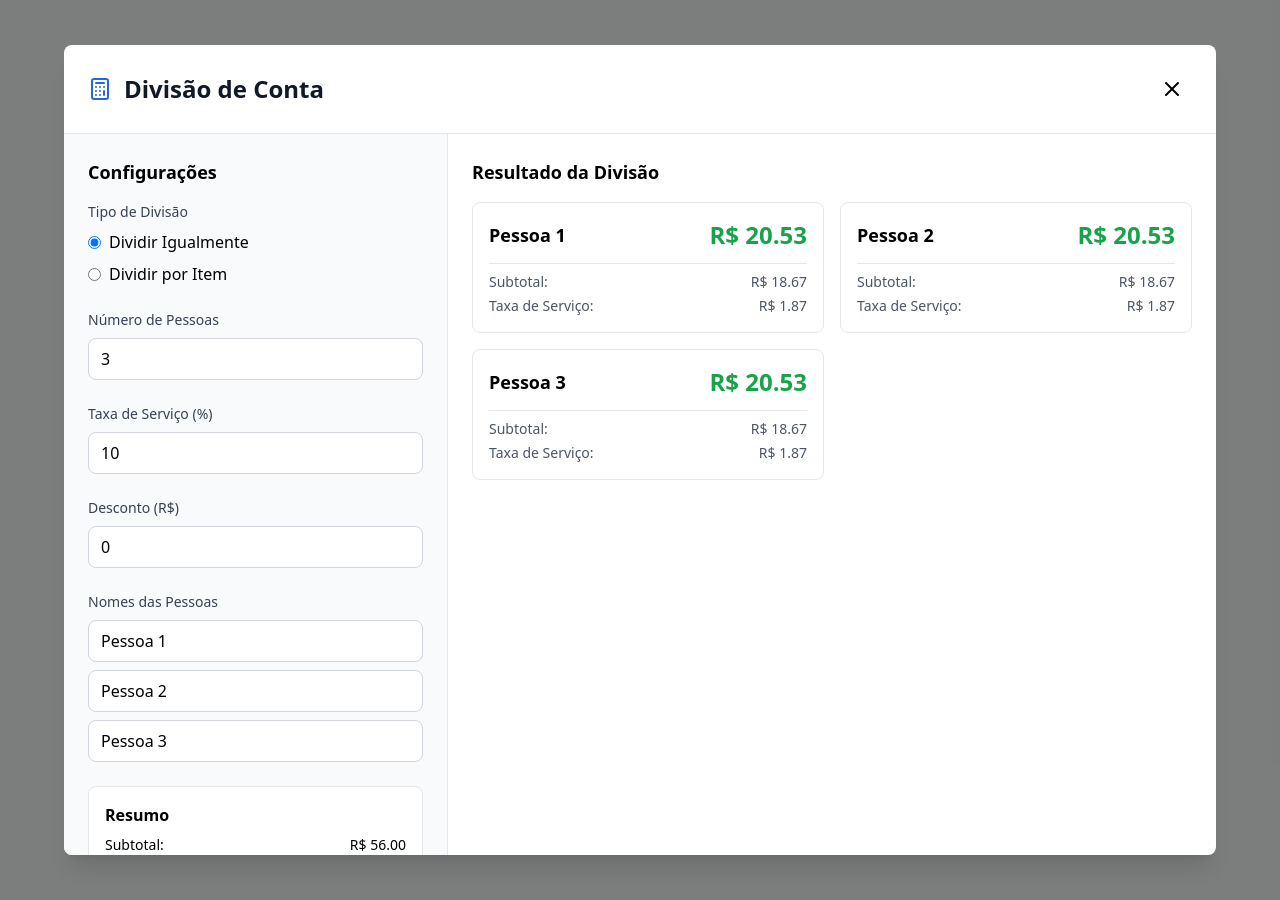
Test: DivisaoContaModal › deve permitir alterar o número de pessoas
# Alterar para 2 pessoas
Replace the text in the number field showing "3" below "Número de Pessoas" with "2" at [256, 359], box [88, 338, 423, 380]
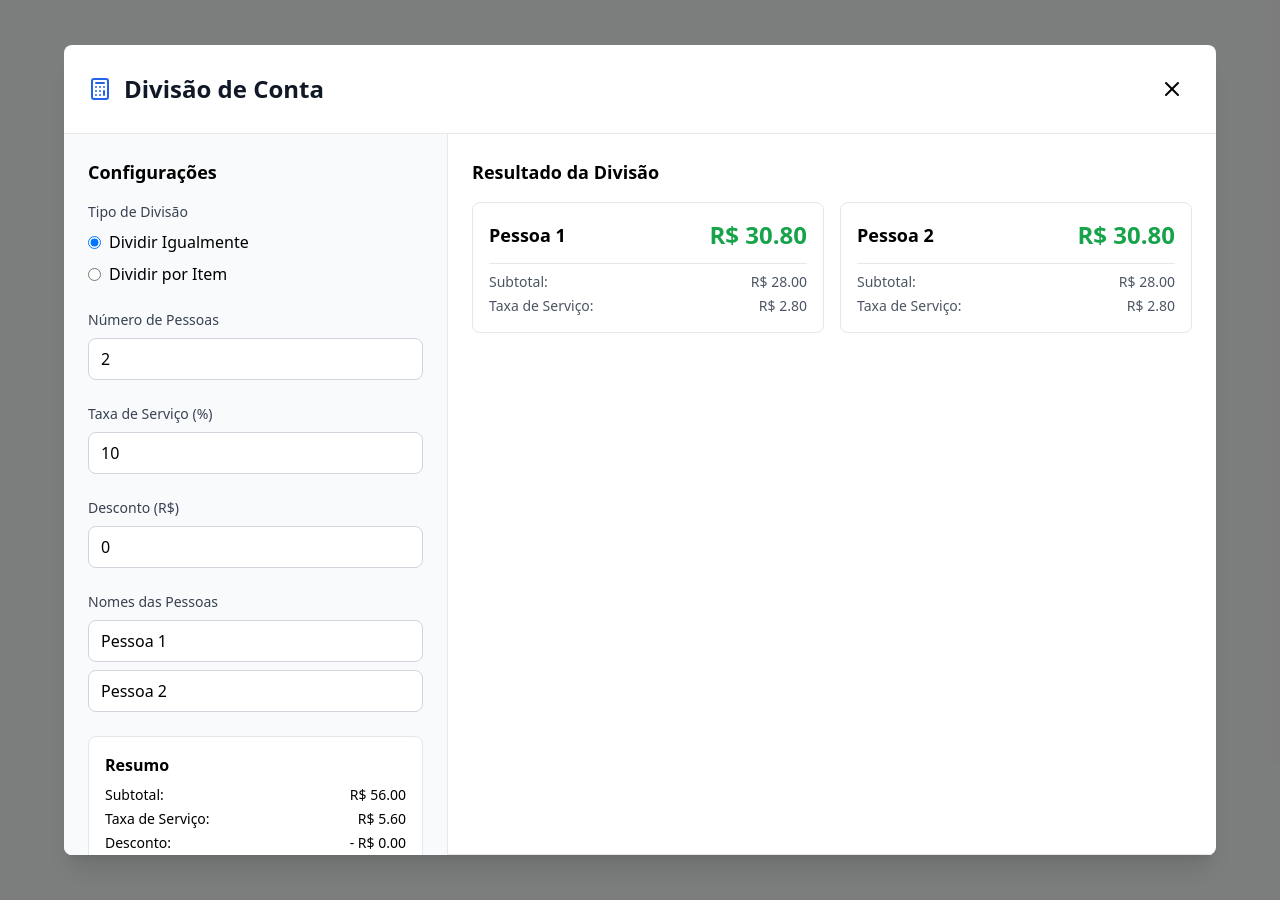
Expected: the 1st field showing "Pessoa 1" is shown, [88, 620, 423, 662]
Expected: the heading showing "Pessoa 3" is gone
